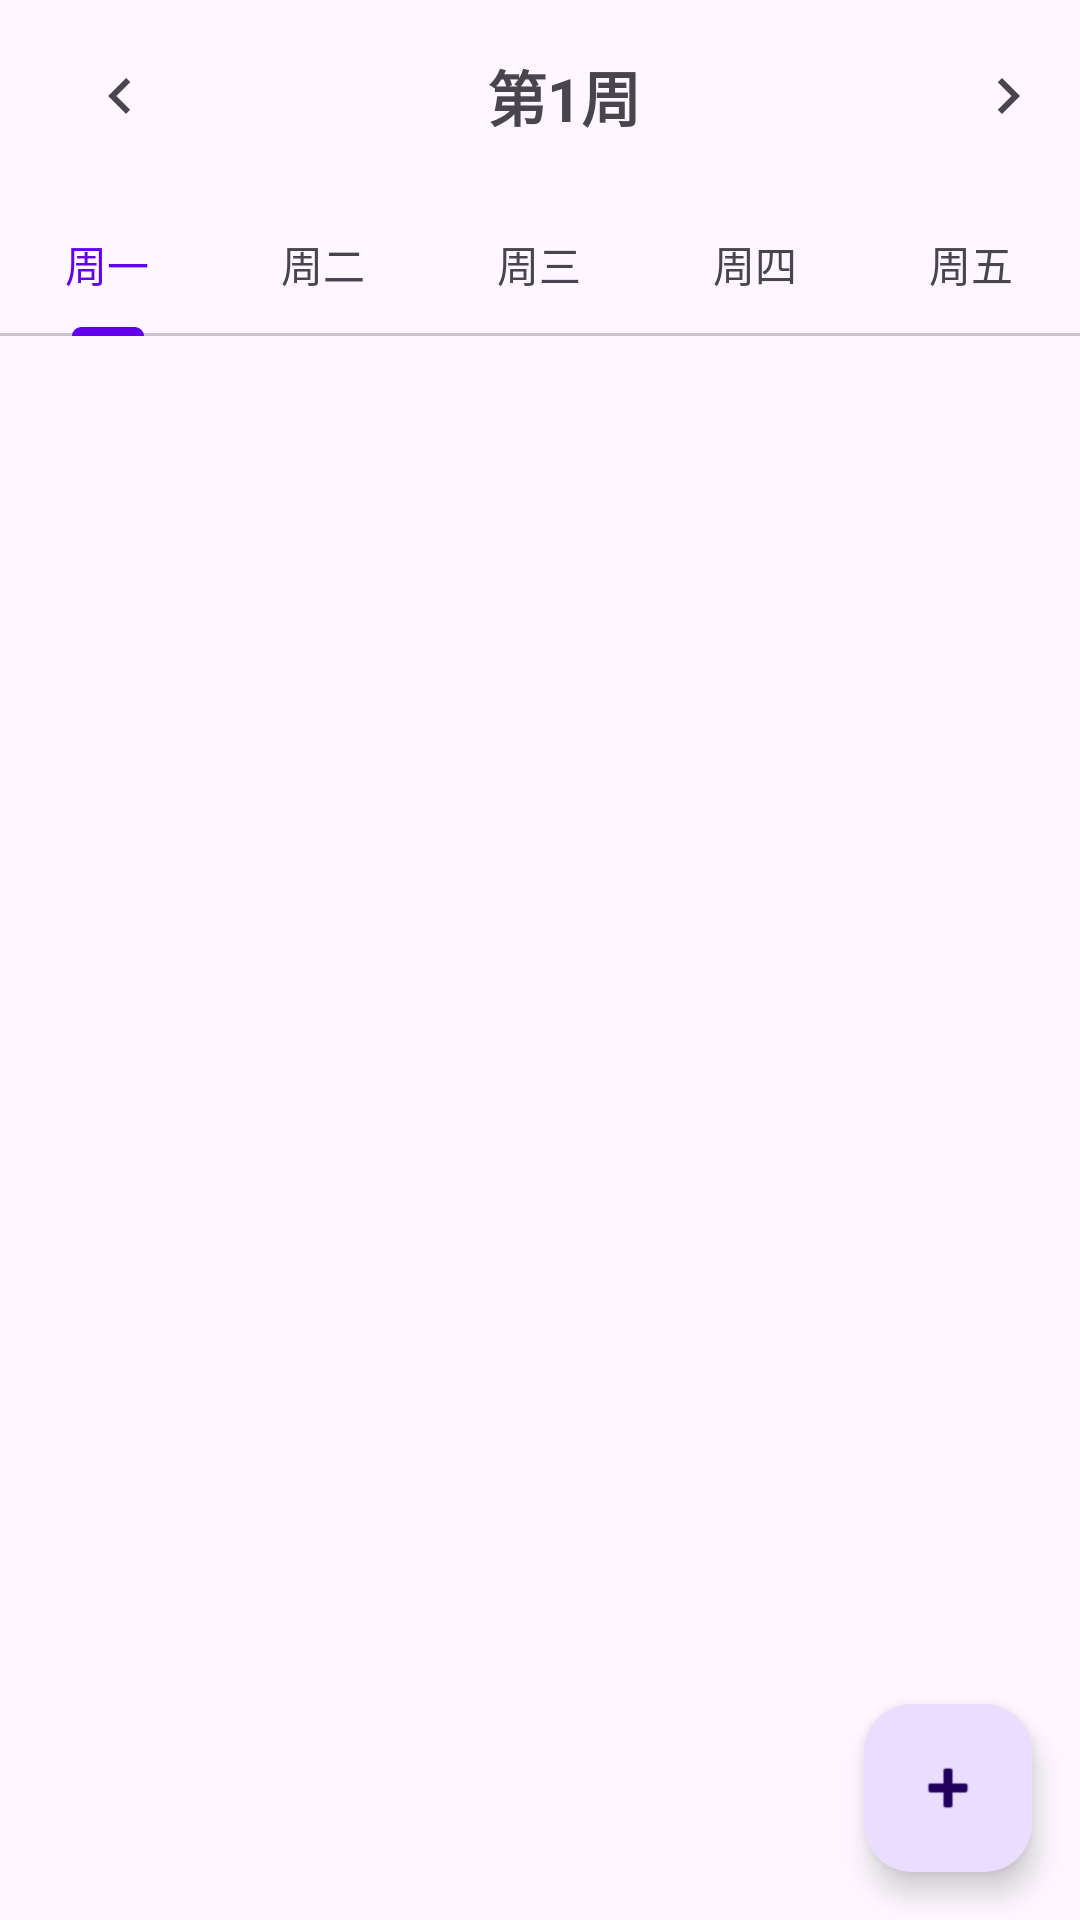

Named icons in this screenshot (1080*1920) and their bounding boxes, (x1, y1, x2, y2):
add: (864, 1704, 1032, 1872)
上一周: (108, 78, 130, 114)
下一周: (998, 78, 1020, 114)
